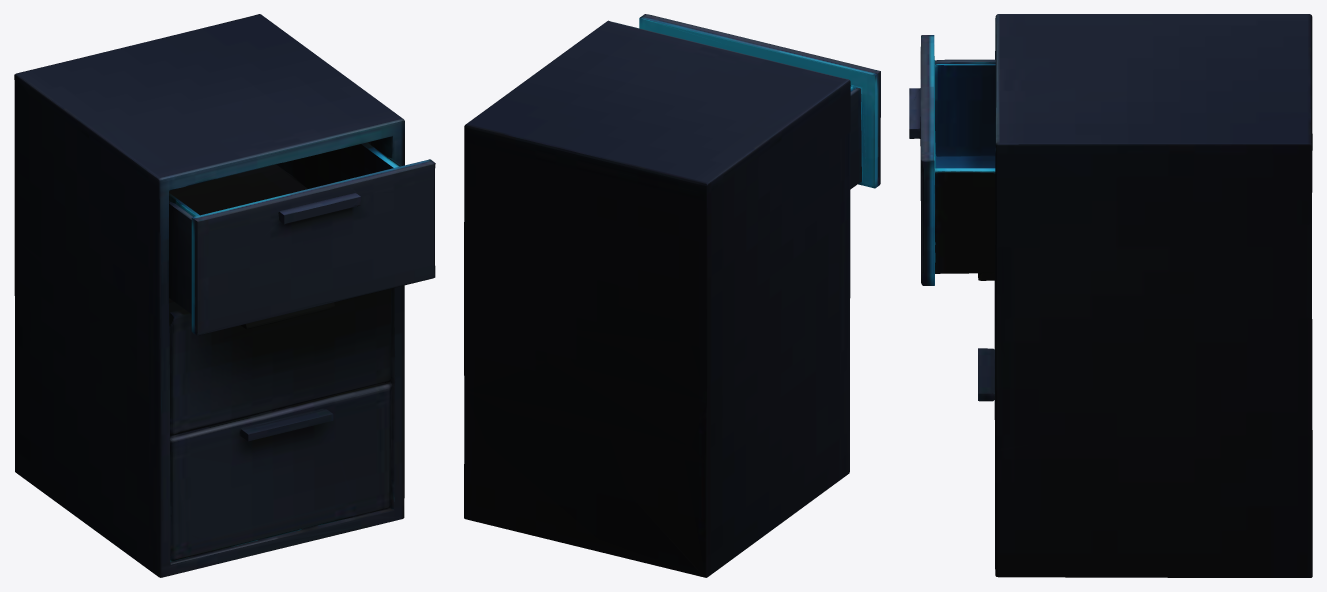
The model's file is gaveta.glb.
3 renders of one model, left to right at view 1: azimuth 30°, elevation 25°; view 2: azimuth 150°, elevation 25°; view 3: azimuth 270°, elevation 25°, orthographic. The views are drawn at different scales.
Bounding box in the file's own units: 0.6478 × 1 × 0.843.
1 material, 1 textured.
